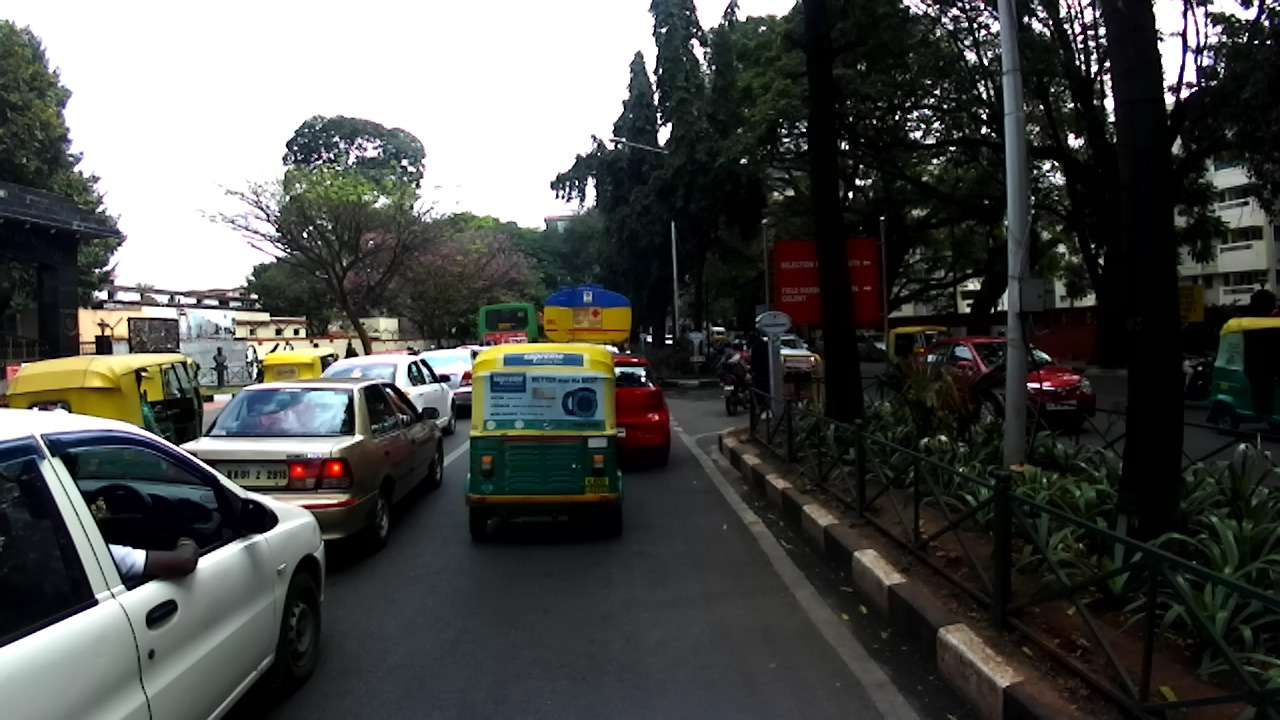autorickshaw: (464, 342, 625, 543), (7, 352, 204, 459), (1205, 318, 1279, 438), (887, 325, 954, 380), (261, 345, 339, 387)
bus: (477, 302, 542, 347)
car: (0, 407, 330, 718), (178, 377, 445, 554), (908, 335, 1096, 430), (319, 355, 457, 437), (611, 354, 672, 468), (413, 348, 476, 416), (760, 334, 820, 383), (855, 332, 890, 363), (724, 330, 751, 355), (815, 333, 825, 358), (638, 332, 653, 344), (662, 334, 673, 346)
motorcycle: (1180, 345, 1219, 402), (719, 361, 755, 417)
person: (344, 342, 358, 359), (283, 340, 294, 351), (313, 343, 319, 348)
rider: (1181, 328, 1216, 395), (721, 339, 754, 396), (996, 328, 1006, 338), (429, 343, 436, 350), (413, 347, 420, 354), (406, 346, 413, 351)
truck: (542, 282, 633, 357), (703, 326, 729, 345)
vehicle fallback: (455, 339, 497, 360), (368, 346, 420, 357)
